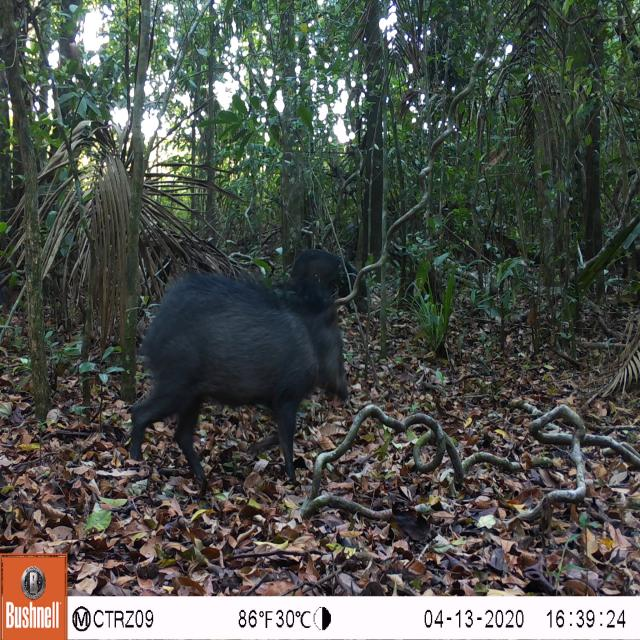Collared Peccary: (119, 266, 350, 500), (283, 230, 361, 312)
